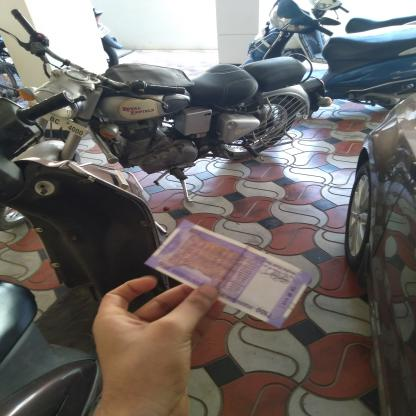New100Back: (146, 224, 302, 326)
